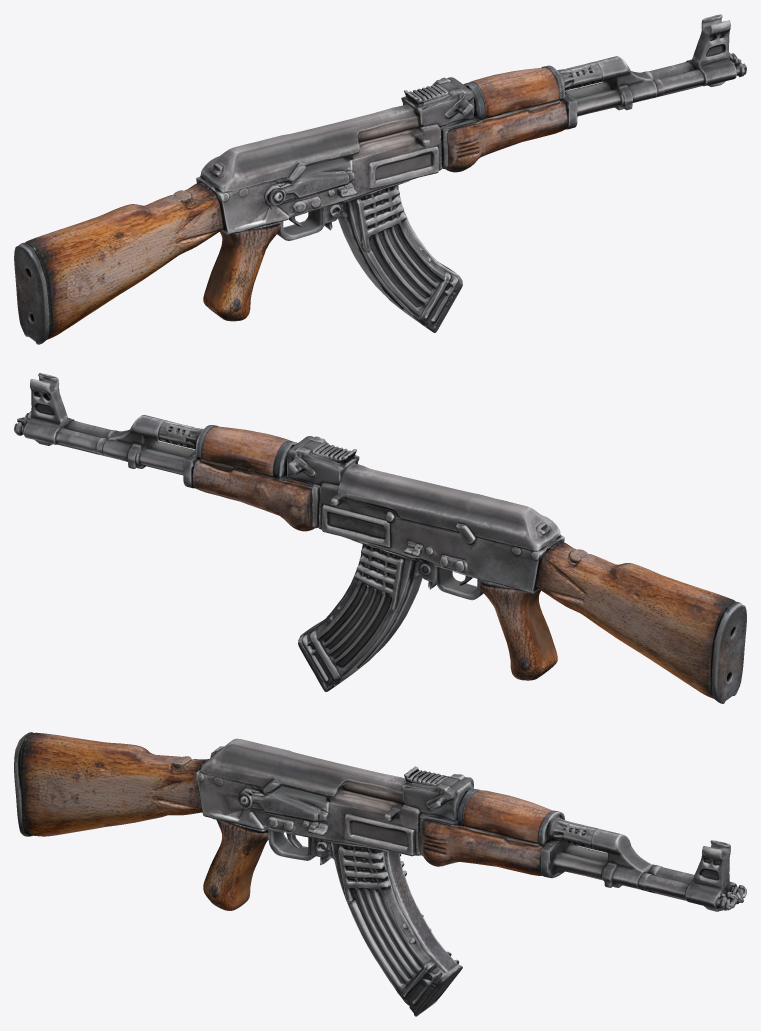
Rendered from ak_tripo.glb.
3 views of the same model, one above another, from view 1: azimuth 30°, elevation 25°; view 2: azimuth 150°, elevation 25°; view 3: azimuth 330°, elevation 25° (orthographic).
Parts seen in each view (by area): view 1: tripo_part_0, tripo_part_2, tripo_part_1, tripo_part_3; view 2: tripo_part_0, tripo_part_2, tripo_part_1, tripo_part_3; view 3: tripo_part_0, tripo_part_1, tripo_part_2, tripo_part_3.
Part boxes in pixels (x1,y1,x2,y2): tripo_part_0: (196, 77, 476, 321); tripo_part_2: (14, 180, 223, 344); tripo_part_1: (441, 14, 746, 172); tripo_part_3: (338, 181, 462, 332); tripo_part_0: (284, 436, 564, 680); tripo_part_2: (537, 539, 746, 703); tripo_part_1: (14, 373, 320, 531); tripo_part_3: (298, 541, 422, 691); tripo_part_0: (196, 738, 473, 910); tripo_part_1: (418, 789, 746, 911); tripo_part_2: (14, 732, 208, 836); tripo_part_3: (330, 843, 462, 1016).
Size of the model in its own units: 0.9821 by 0.3098 by 0.0987.
Materials: 4 (4 with a texture image).
